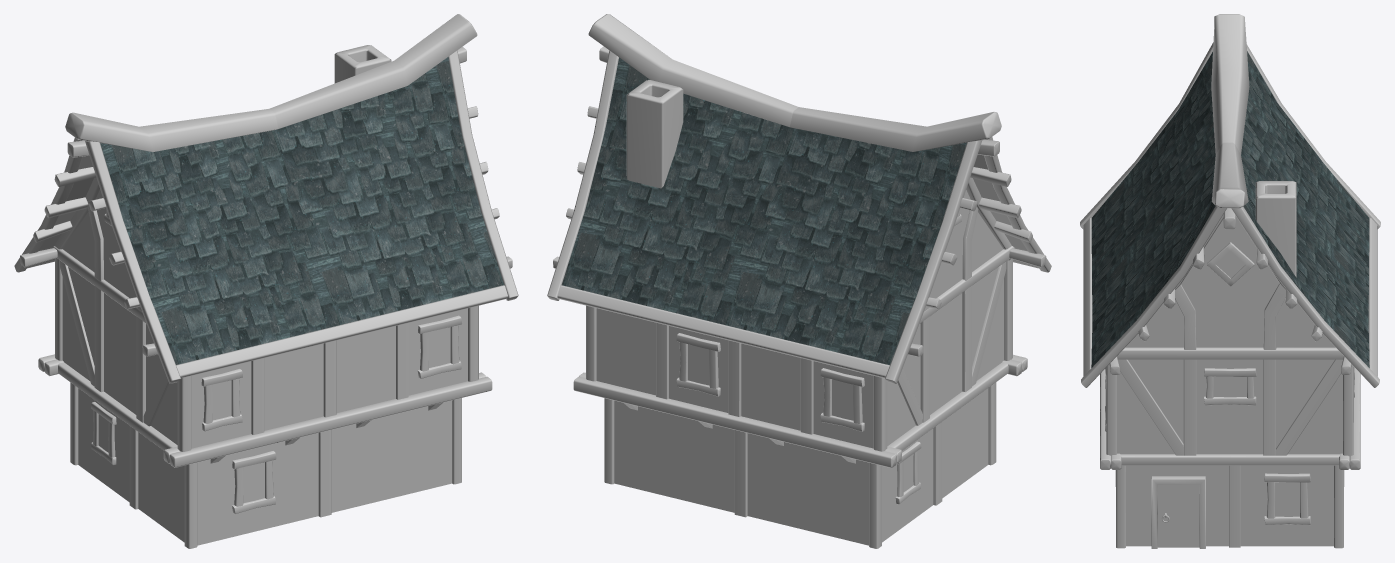
The model's file is house28.fbx.
3 renders of one model, left to right at view 1: azimuth 30°, elevation 25°; view 2: azimuth 150°, elevation 25°; view 3: azimuth 270°, elevation 25°, orthographic. The views are drawn at different scales.
Visible parts, largest first — view 1: house28; view 2: house28; view 3: house28.
Boxes of the visible parts, bbox=[...] form: house28: bbox=[14, 14, 518, 548]; house28: bbox=[547, 14, 1051, 548]; house28: bbox=[1080, 14, 1380, 548].
Size of the model in its own units: 1318 by 1272 by 896.
